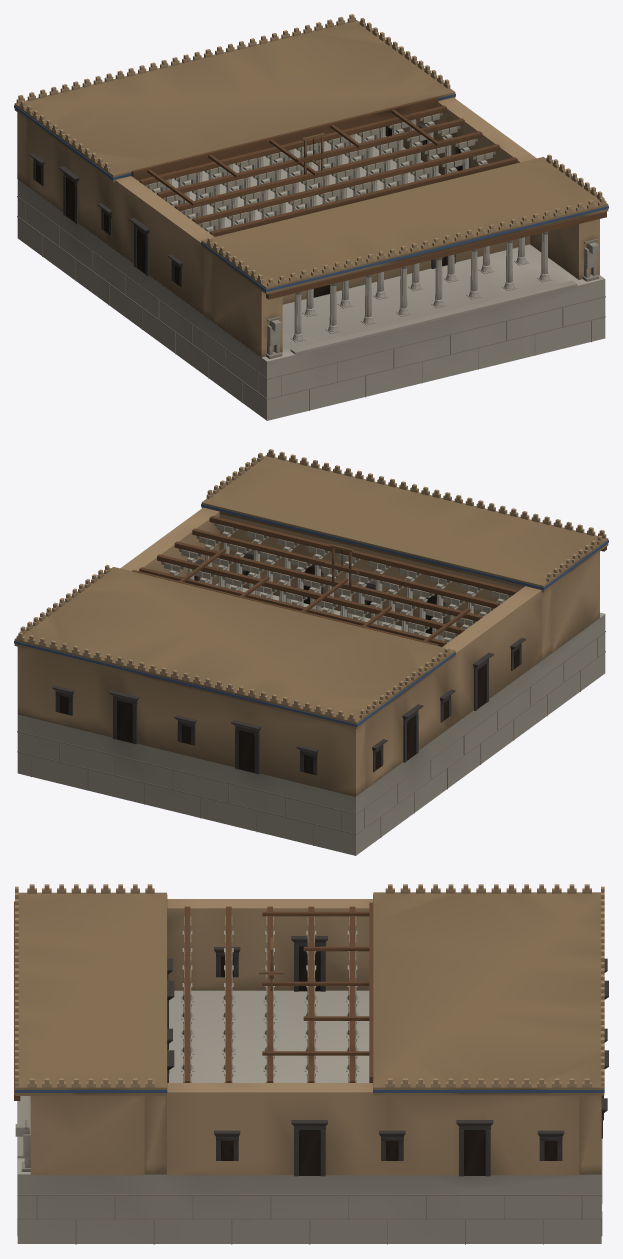
File: hundred-columns.glb
3 renders of one model, top to bottom at view 1: azimuth 30°, elevation 25°; view 2: azimuth 150°, elevation 25°; view 3: azimuth 270°, elevation 25°, orthographic. The views are drawn at different scales.
Visible parts, largest first — view 1: p2_roof, p0_terrace, p1_columns; view 2: p2_roof, p1_columns, p0_terrace; view 3: p2_roof, p1_columns, p0_terrace.
Part boxes in pixels (box(x1,y1,x2,y2)): p2_roof: box(14, 14, 608, 299); p0_terrace: box(17, 133, 605, 420); p1_columns: box(17, 97, 599, 358); p2_roof: box(14, 449, 608, 729); p1_columns: box(17, 507, 599, 796); p0_terrace: box(17, 583, 605, 855); p2_roof: box(14, 884, 604, 1100); p1_columns: box(15, 899, 608, 1176); p0_terrace: box(17, 990, 602, 1244).
Bounding box in the file's own units: 74.3 × 34.14 × 93.75.
